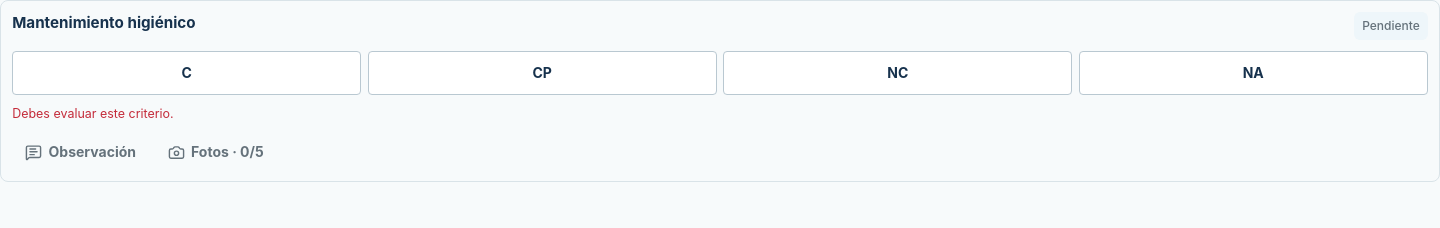
Test: TechnicianCriterionEditor › shows optional evidence guidance only for CP and NC, and contextual validation when pending
This screenshot has width=1440, height=228.
Click the button with aria-label "No cumple": coordinates (898, 73) [723,51,1072,95]
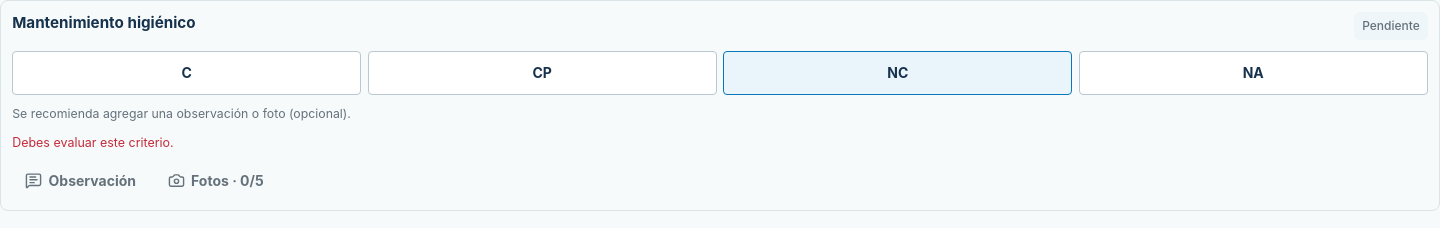
Now the text "Se recomienda agregar una observación o foto (opcional)." is shown, box [12,106,351,121]
Click the button named "Cumple": coordinates (187, 73) [12,51,361,95]
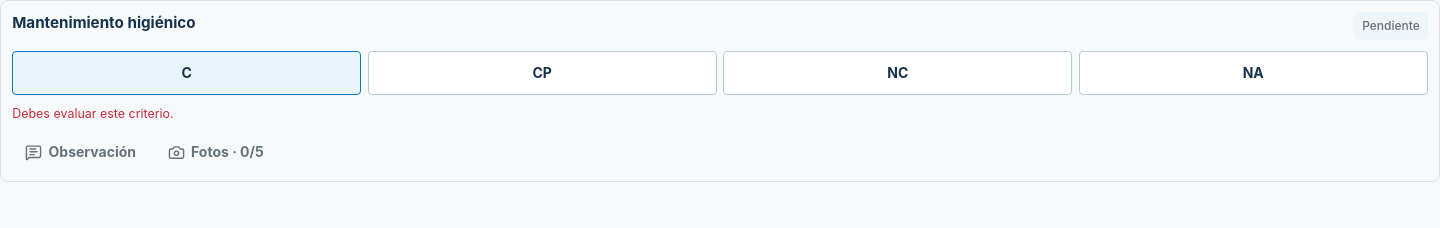
Now the text "Se recomienda agregar una observación o foto (opcional)." is gone
